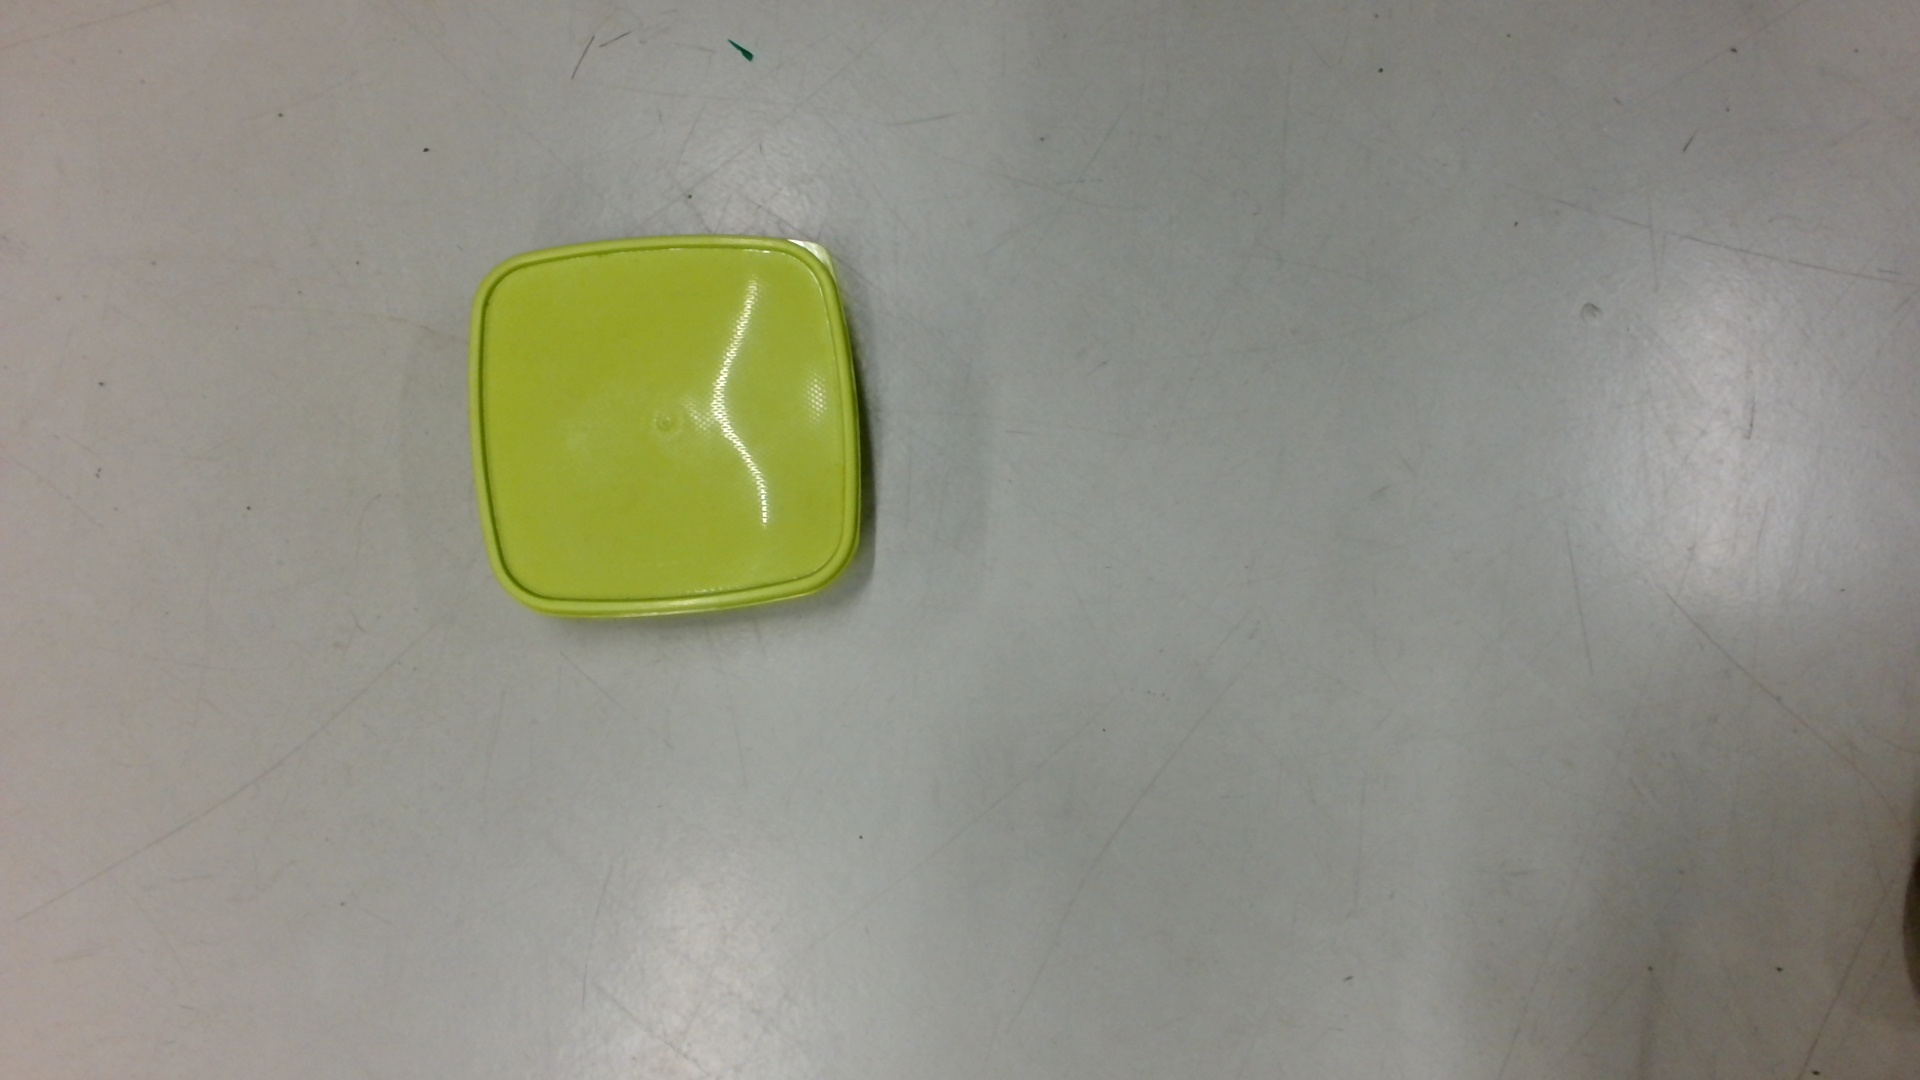Box: (459, 229, 876, 632)
